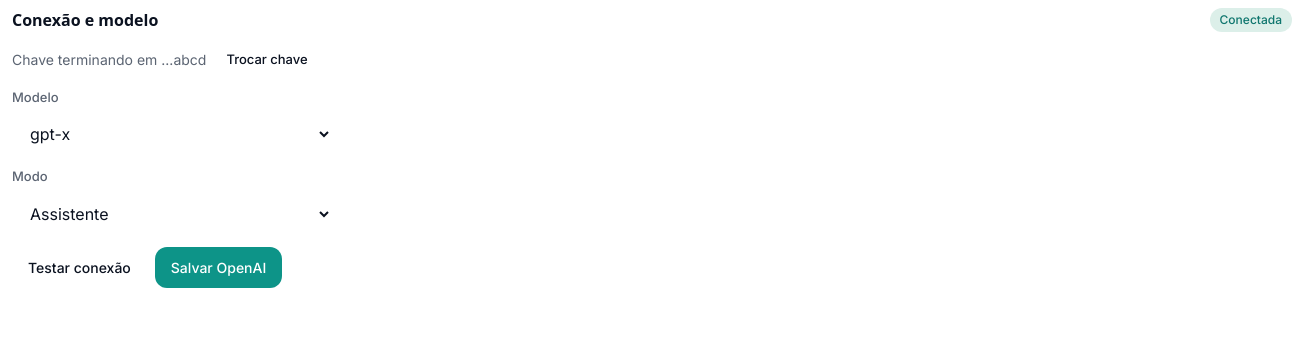
Test: OpenAiConfigCard › a successful save clears a previous connection test error
Click the button "Testar conexão". click: click(79, 267)
box: [12,246,147,288]
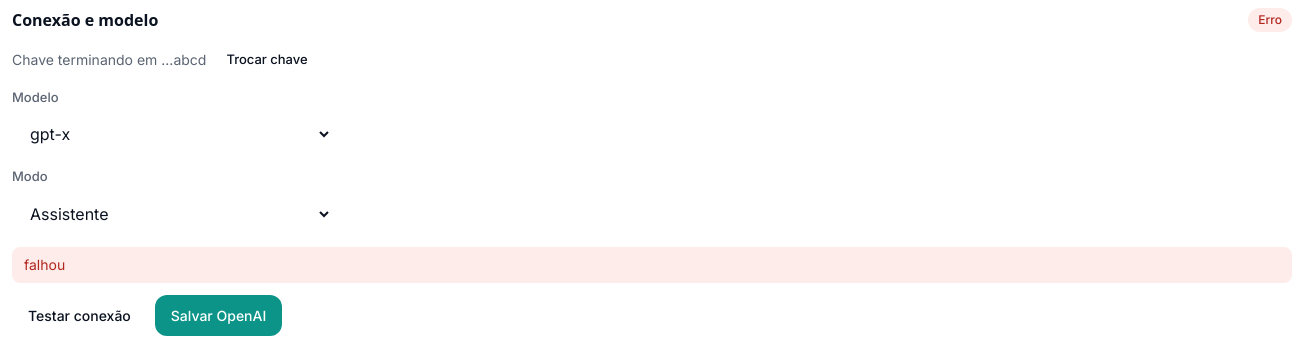
Expected: the text "falhou" is shown, [12,246,1291,282]
Expected: the text "Erro" is shown, [1248,8,1291,32]
Click the button "Salvar OpenAI". click: click(219, 315)
box: [155,294,282,336]
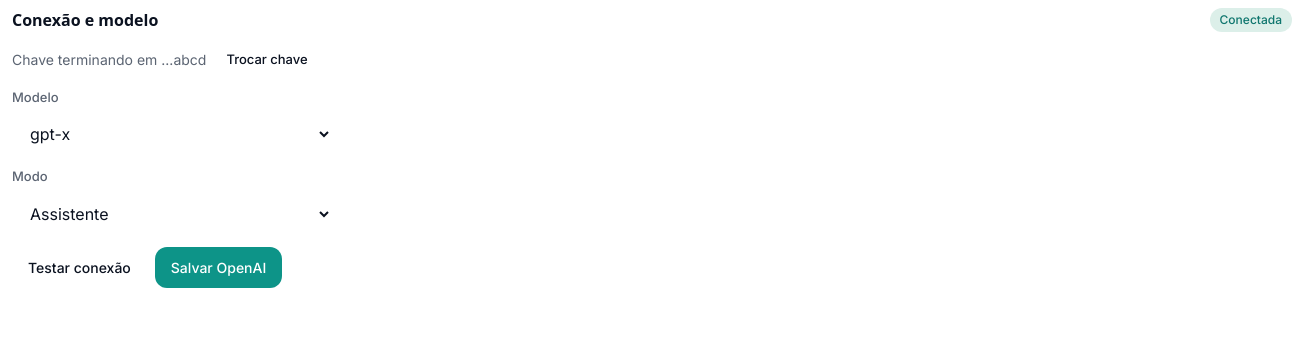
Expected: the text "falhou" is gone
Expected: the text "Erro" is gone
